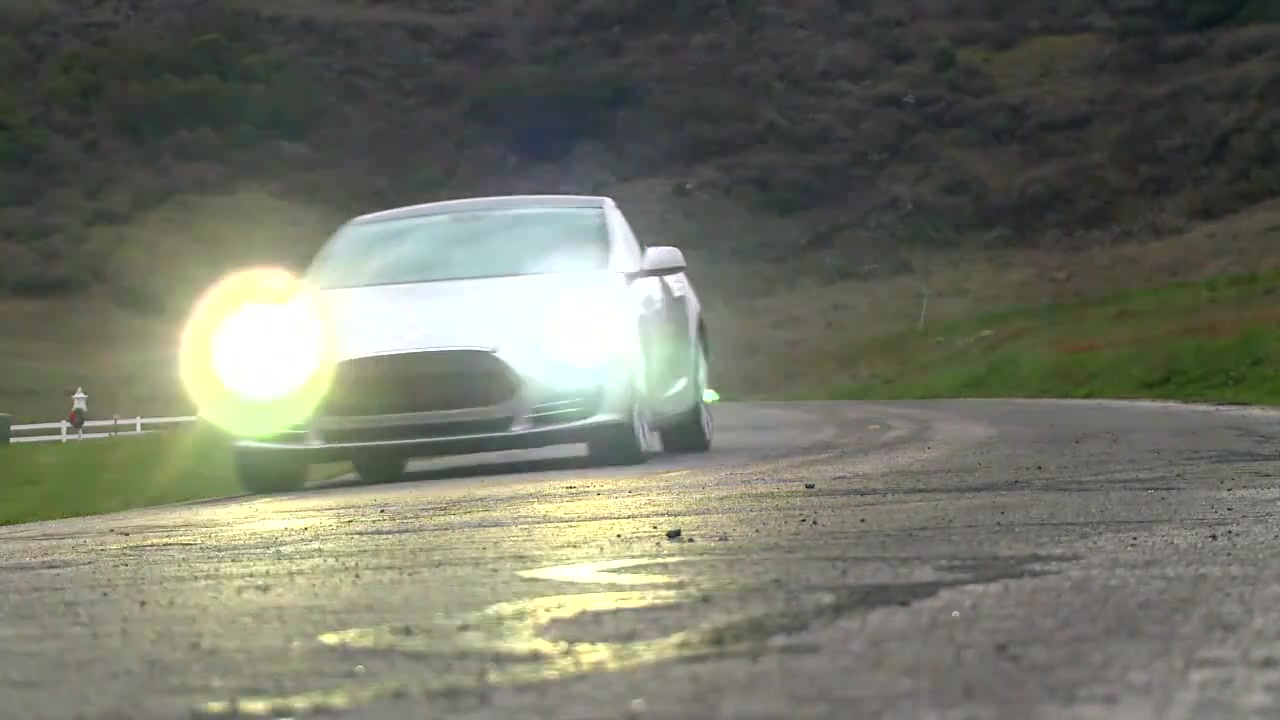car: (228, 191, 718, 496)
